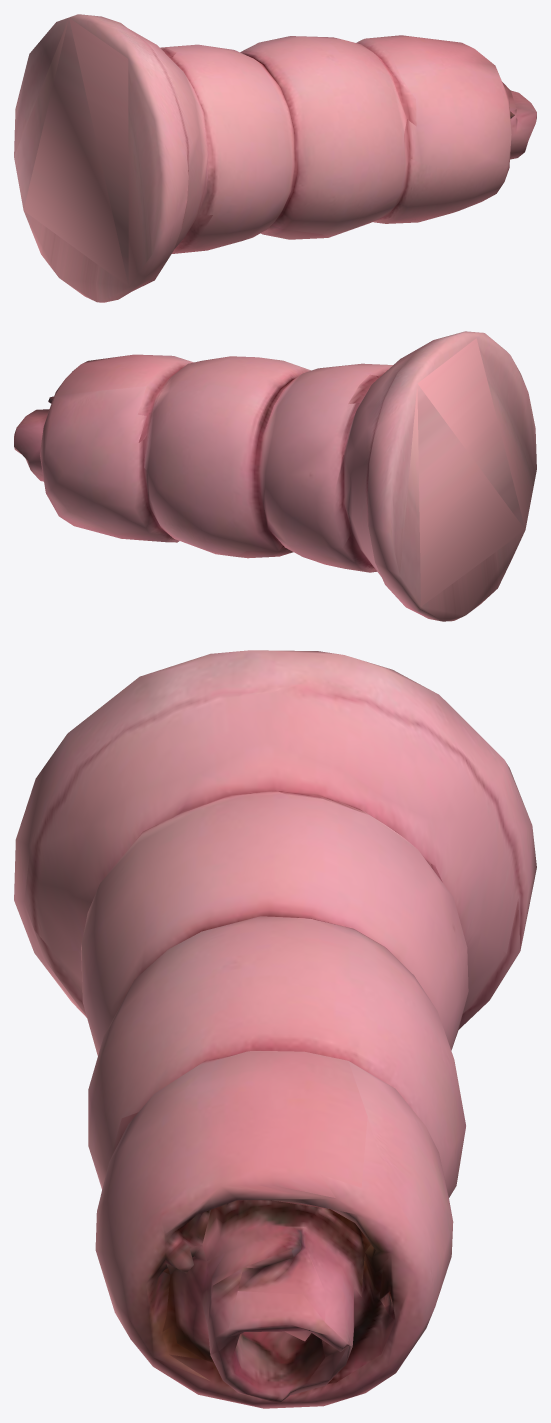
Rendered from leg1_chirimecha.glb.
The picture shows the model from 3 angles, top to bottom: view 1: azimuth 30°, elevation 25°; view 2: azimuth 150°, elevation 25°; view 3: azimuth 270°, elevation 25°; orthographic projection. The views are drawn at different scales.
Parts seen in each view (by area): view 1: leg 1; view 2: leg 1; view 3: leg 1.
Part boxes in pixels (bbox=[...]): leg 1: bbox=[14, 14, 536, 302]; leg 1: bbox=[14, 331, 536, 621]; leg 1: bbox=[14, 650, 536, 1408].
Bounding box in the file's own units: 1.62 × 0.8934 × 0.9093.
Materials: 1 (1 with a texture image).
